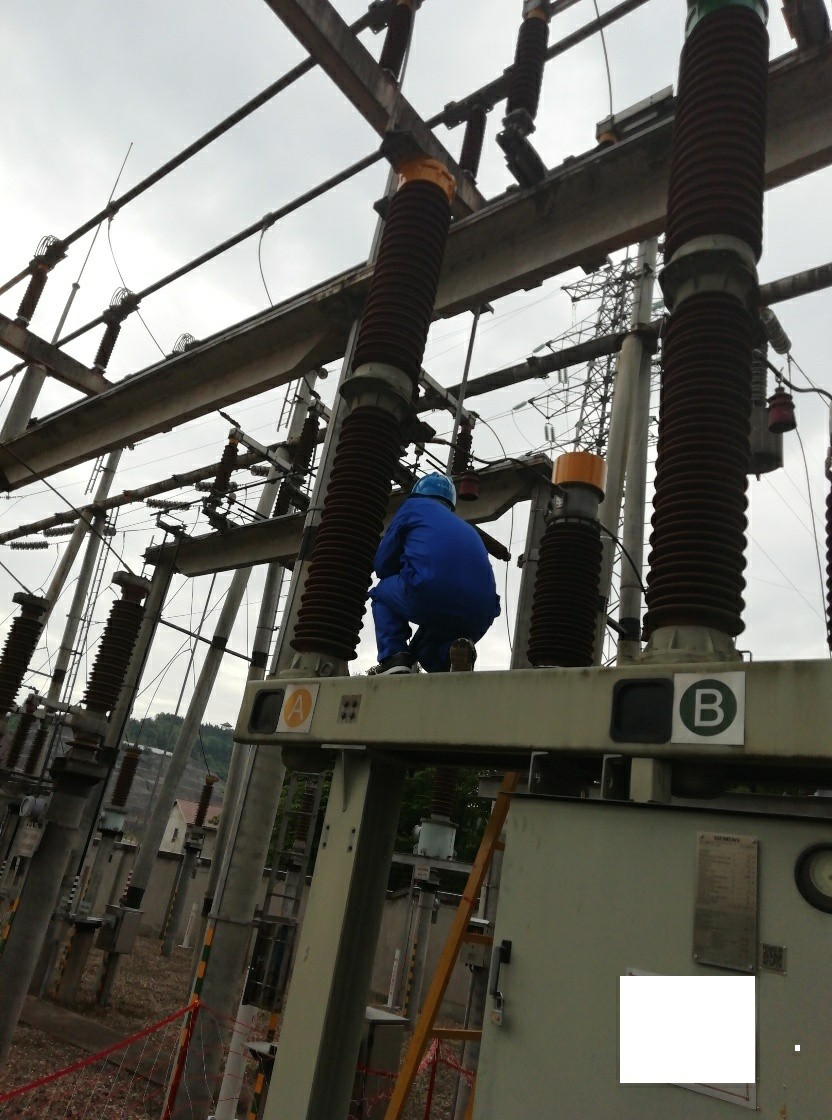hat: (406, 469, 461, 513)
